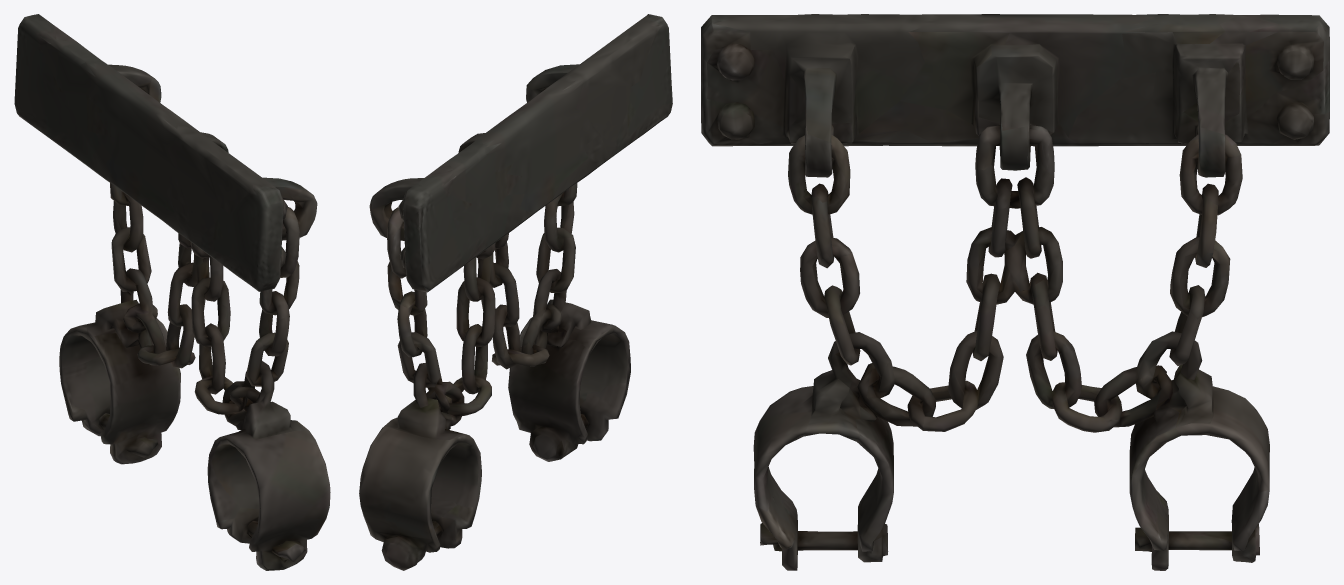
The model's file is chain-shackle.glb.
3 renders of one model, left to right at view 1: azimuth 30°, elevation 25°; view 2: azimuth 150°, elevation 25°; view 3: azimuth 270°, elevation 25°, orthographic. The views are drawn at different scales.
Visible parts, largest first — view 1: tripo_node_32f732d7-cf08-4199-b77f-35e2c89978ad; view 2: tripo_node_32f732d7-cf08-4199-b77f-35e2c89978ad; view 3: tripo_node_32f732d7-cf08-4199-b77f-35e2c89978ad.
Boxes of the visible parts, x1,y1,x2,y2 form: tripo_node_32f732d7-cf08-4199-b77f-35e2c89978ad: (14,14,330,570); tripo_node_32f732d7-cf08-4199-b77f-35e2c89978ad: (359,14,672,570); tripo_node_32f732d7-cf08-4199-b77f-35e2c89978ad: (701,14,1329,570).
Bounding box in the file's own units: 0.2307 × 0.9112 × 1.
Materials: 1 (1 with a texture image).
